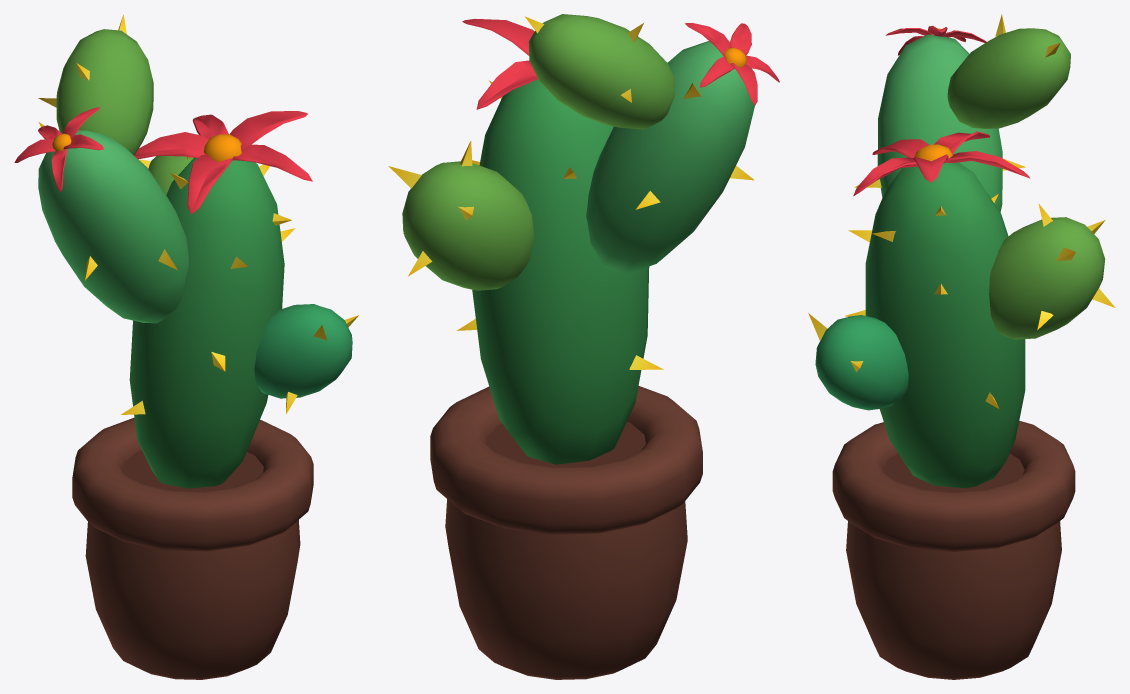
Rendered from Plants_06.glb.
3 views of the same model, side by side, from view 1: azimuth 30°, elevation 25°; view 2: azimuth 150°, elevation 25°; view 3: azimuth 270°, elevation 25° (orthographic). The views are drawn at different scales.
Parts seen in each view (by area): view 1: Plants_06; view 2: Plants_06; view 3: Plants_06.
Boxes of the visible parts, x1,y1,x2,y2 form: Plants_06: (14, 14, 358, 679); Plants_06: (388, 14, 779, 679); Plants_06: (808, 14, 1115, 679).
Size of the model in its own units: 0.2326 by 0.4582 by 0.2128.
1 material, 1 textured.
